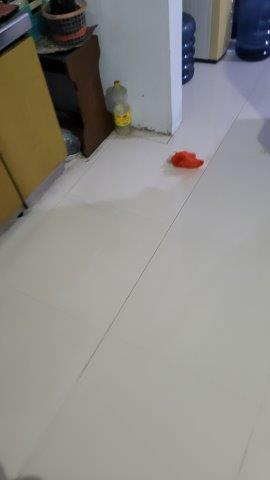plastik: (167, 151, 208, 170)
